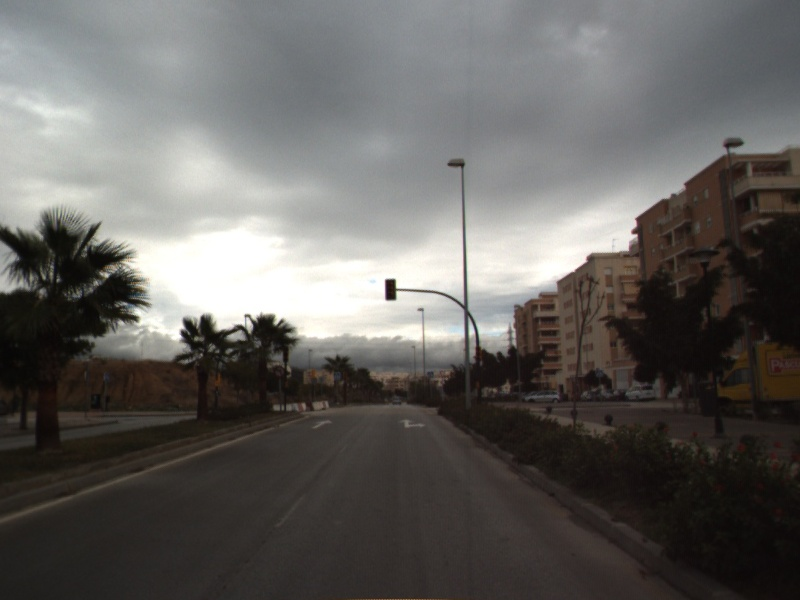STRAIGHT: (310, 417, 334, 430)
STRAIGHT_RIGHT: (397, 417, 428, 430)
